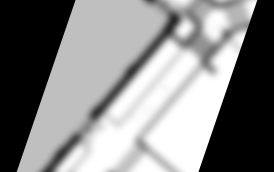double door: (75, 114, 107, 149), (151, 0, 184, 16), (58, 170, 95, 172)
wall: (86, 0, 190, 141), (22, 122, 86, 172), (122, 138, 202, 172), (200, 25, 238, 73), (216, 0, 261, 22), (181, 21, 206, 56), (164, 0, 229, 10), (82, 0, 160, 7), (229, 16, 250, 38), (166, 30, 189, 50), (197, 59, 219, 77), (141, 0, 177, 9), (186, 12, 207, 27)
